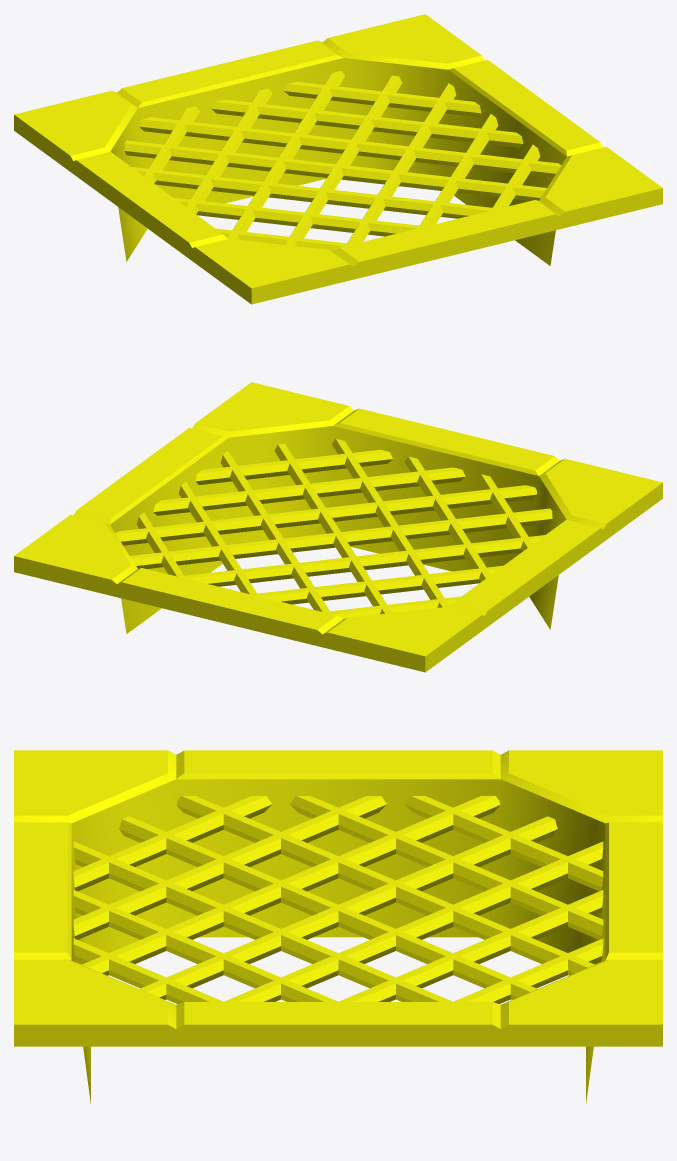
The model's file is kaykit-floor-tile-big-grate-open.glb.
3 renders of one model, top to bottom at view 1: azimuth 30°, elevation 25°; view 2: azimuth 150°, elevation 25°; view 3: azimuth 270°, elevation 25°, orthographic. The views are drawn at different scales.
Visible parts, largest first — view 1: floor_tile_big_grate_open; view 2: floor_tile_big_grate_open; view 3: floor_tile_big_grate_open.
Part boxes in pixels (x1=…): floor_tile_big_grate_open: x1=14, y1=14, x2=662, y2=304; floor_tile_big_grate_open: x1=14, y1=382, x2=662, y2=672; floor_tile_big_grate_open: x1=14, y1=750, x2=662, y2=1103.
Bounding box in the file's own units: 4 × 1.05 × 4.
